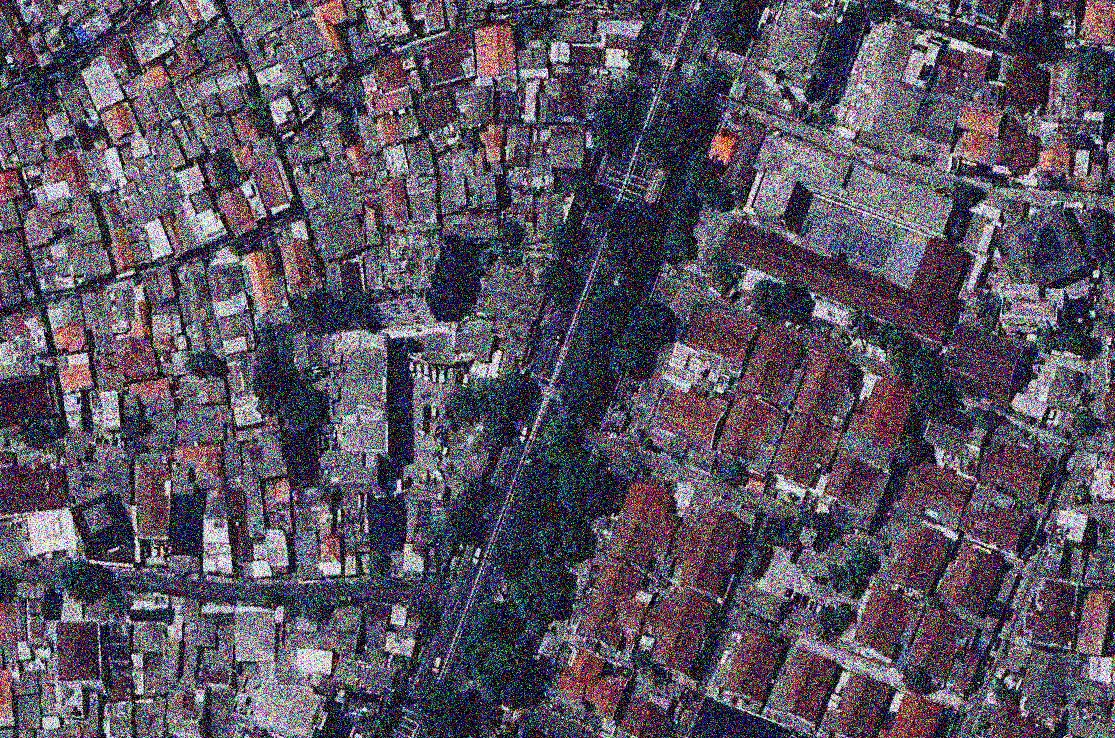building: (716, 217, 958, 343), (751, 126, 957, 241), (724, 0, 866, 130), (356, 210, 466, 343), (12, 172, 118, 299), (313, 333, 389, 493), (645, 344, 737, 467), (295, 603, 415, 690), (568, 553, 663, 656), (990, 204, 1092, 298), (974, 420, 1071, 508), (660, 498, 746, 597), (602, 477, 686, 572), (635, 583, 719, 677), (927, 536, 1015, 625), (816, 436, 895, 535), (0, 0, 113, 68), (784, 346, 867, 436), (936, 322, 1028, 402), (845, 581, 927, 667), (954, 482, 1045, 559), (892, 458, 978, 538), (42, 189, 112, 286), (764, 412, 842, 499), (712, 392, 785, 482), (549, 646, 633, 724), (913, 400, 994, 478), (227, 673, 324, 738), (675, 303, 757, 379), (845, 373, 920, 456), (904, 605, 978, 686), (233, 606, 307, 685), (1013, 574, 1087, 652), (815, 664, 893, 738), (50, 617, 103, 722), (873, 519, 945, 596), (718, 626, 786, 707), (897, 92, 964, 174), (185, 54, 262, 125), (117, 128, 182, 212), (772, 648, 839, 725), (987, 279, 1074, 338), (905, 237, 973, 311), (737, 328, 801, 406), (67, 490, 138, 560), (76, 284, 144, 357), (354, 54, 427, 121), (687, 695, 798, 737), (0, 450, 67, 519), (241, 137, 296, 215), (123, 64, 186, 132), (288, 602, 360, 656), (992, 118, 1051, 182), (876, 687, 947, 738), (1018, 649, 1077, 709), (185, 96, 241, 158), (0, 310, 48, 381), (51, 64, 101, 132), (2, 100, 54, 165), (897, 35, 945, 105), (0, 304, 53, 367), (310, 97, 359, 165), (225, 607, 281, 666), (416, 35, 477, 89), (311, 210, 370, 265), (718, 125, 765, 192), (240, 245, 282, 318), (170, 258, 215, 326), (1040, 361, 1092, 419), (77, 58, 128, 117), (1074, 588, 1115, 661), (277, 233, 323, 297), (223, 0, 288, 45), (163, 490, 203, 563), (212, 296, 260, 356), (0, 231, 36, 310), (279, 419, 321, 486), (236, 425, 285, 482), (356, 0, 413, 49), (0, 379, 58, 427), (178, 396, 237, 443), (212, 183, 262, 238), (37, 150, 87, 205), (225, 354, 263, 426), (122, 15, 175, 66), (186, 186, 229, 248), (987, 697, 1052, 738), (749, 169, 797, 224), (0, 1, 37, 72), (130, 407, 180, 459), (159, 685, 208, 738), (78, 145, 127, 197), (1001, 60, 1048, 114), (472, 26, 516, 83), (620, 694, 677, 738), (134, 463, 167, 539), (452, 153, 497, 208), (26, 509, 78, 556), (191, 22, 242, 69), (131, 212, 174, 267), (348, 655, 403, 698), (306, 161, 356, 208), (353, 603, 391, 662), (157, 38, 205, 84), (385, 600, 423, 658), (158, 203, 198, 258), (930, 38, 966, 99), (271, 38, 311, 92), (225, 503, 255, 575), (367, 496, 404, 554), (128, 597, 169, 649), (954, 99, 1007, 139), (281, 15, 327, 61), (452, 319, 499, 364), (340, 685, 390, 727), (60, 0, 111, 41), (165, 445, 218, 484), (985, 0, 1042, 36), (203, 522, 237, 582), (109, 182, 153, 227), (204, 259, 247, 304), (954, 43, 996, 89), (415, 90, 461, 132), (116, 334, 158, 380), (951, 129, 998, 170), (337, 492, 368, 554), (283, 127, 327, 170), (124, 376, 178, 411), (15, 203, 56, 248), (262, 476, 292, 537), (1064, 146, 1105, 190), (1038, 115, 1102, 143), (443, 209, 500, 240), (962, 288, 1001, 333), (553, 70, 590, 117), (39, 21, 80, 63), (411, 332, 457, 369), (288, 487, 321, 538), (1074, 0, 1114, 42), (173, 373, 226, 404), (1050, 504, 1091, 544), (98, 103, 139, 143), (547, 133, 590, 171), (1039, 132, 1072, 181), (376, 178, 409, 227), (148, 85, 186, 127), (488, 89, 526, 131), (184, 320, 221, 363), (39, 99, 74, 144), (397, 138, 435, 179), (78, 458, 131, 487), (341, 22, 380, 61), (323, 261, 362, 299), (171, 159, 209, 198), (140, 266, 177, 306), (106, 227, 138, 273), (404, 0, 446, 35), (199, 642, 230, 689), (591, 18, 643, 46), (264, 93, 300, 133), (262, 529, 291, 578), (409, 178, 441, 221), (154, 129, 186, 171), (72, 115, 107, 153), (49, 323, 88, 357), (207, 688, 234, 737), (704, 123, 734, 167), (178, 0, 222, 30), (294, 533, 322, 580), (292, 329, 324, 370), (129, 695, 161, 736), (0, 77, 36, 113), (148, 301, 181, 340), (155, 335, 188, 374), (1072, 87, 1112, 119), (1083, 546, 1114, 587), (136, 59, 172, 94), (228, 108, 261, 146), (550, 43, 600, 68), (0, 173, 22, 229), (130, 654, 159, 696), (517, 43, 549, 81), (59, 427, 91, 465), (553, 15, 596, 43), (534, 195, 561, 239), (507, 188, 540, 224), (499, 337, 530, 375), (158, 637, 184, 682), (12, 694, 42, 733), (355, 111, 381, 156), (104, 623, 128, 671), (292, 651, 332, 679), (342, 140, 372, 177), (256, 306, 293, 336), (599, 45, 636, 74), (505, 124, 530, 166), (57, 366, 93, 395), (98, 387, 121, 431), (0, 598, 21, 646), (192, 612, 219, 649), (480, 122, 504, 163), (100, 702, 128, 737), (406, 504, 431, 543), (317, 538, 341, 578), (253, 61, 287, 89), (382, 143, 409, 178), (391, 110, 420, 142), (521, 79, 541, 124), (278, 218, 310, 245), (371, 118, 399, 148), (321, 496, 339, 542), (0, 120, 18, 166), (331, 579, 421, 588), (46, 302, 74, 330), (11, 671, 40, 698), (102, 673, 132, 699), (222, 440, 241, 479), (131, 551, 174, 567), (1044, 0, 1080, 19), (974, 1, 1007, 21), (0, 670, 12, 725), (538, 90, 558, 123), (1059, 65, 1078, 99), (225, 488, 245, 519), (232, 394, 259, 416), (1076, 69, 1097, 96), (527, 155, 552, 176), (368, 152, 387, 179), (236, 365, 254, 393), (467, 0, 493, 19), (17, 582, 46, 598), (235, 646, 263, 662), (981, 84, 1001, 106), (35, 726, 75, 737), (225, 487, 246, 501), (181, 632, 193, 646), (231, 414, 246, 425), (248, 507, 259, 520), (161, 647, 173, 658), (168, 625, 177, 638), (320, 560, 339, 566), (71, 449, 85, 457)
tree: (548, 273, 643, 419), (634, 78, 719, 177), (527, 443, 622, 524), (606, 292, 686, 388), (890, 343, 964, 421), (483, 515, 552, 590), (504, 556, 571, 632), (455, 638, 529, 705), (851, 302, 919, 372), (406, 674, 479, 738), (270, 376, 338, 444), (599, 197, 655, 278), (820, 539, 885, 603), (746, 275, 823, 328), (588, 80, 641, 154), (477, 374, 534, 438), (679, 150, 733, 217), (421, 500, 482, 559), (660, 186, 703, 261), (1001, 13, 1061, 66), (533, 252, 586, 306), (536, 512, 589, 565), (516, 458, 557, 523), (1070, 35, 1115, 92), (52, 558, 104, 607), (545, 215, 595, 264), (710, 2, 756, 53), (250, 369, 294, 418), (318, 293, 372, 331), (708, 248, 748, 295), (691, 52, 734, 95), (469, 598, 512, 640), (1086, 211, 1114, 273), (1040, 329, 1094, 361), (571, 179, 612, 221), (355, 699, 399, 738), (443, 387, 484, 428), (945, 175, 986, 214), (803, 507, 849, 541), (892, 431, 928, 473), (774, 508, 807, 551), (471, 701, 508, 738), (9, 419, 48, 454), (292, 596, 337, 626), (291, 296, 325, 332), (543, 411, 576, 448), (815, 606, 852, 639), (499, 217, 529, 248), (97, 589, 128, 619), (1065, 409, 1098, 437), (124, 417, 147, 457), (743, 544, 770, 578), (244, 96, 271, 130), (458, 473, 487, 504), (860, 0, 894, 25), (365, 549, 394, 578), (272, 336, 294, 374), (188, 350, 220, 376), (900, 669, 933, 694), (257, 324, 274, 370), (254, 589, 287, 612), (44, 413, 70, 442), (218, 151, 240, 185), (989, 682, 1020, 706), (341, 76, 365, 107), (477, 248, 520, 263), (715, 463, 746, 483), (418, 599, 436, 631), (975, 407, 1000, 430), (757, 521, 780, 543), (622, 460, 644, 482), (1068, 480, 1089, 503), (319, 483, 342, 504), (303, 82, 324, 102), (44, 438, 66, 457), (632, 429, 651, 451), (461, 130, 479, 150), (513, 721, 534, 738), (1099, 314, 1115, 336), (435, 565, 452, 583), (673, 319, 688, 338)
